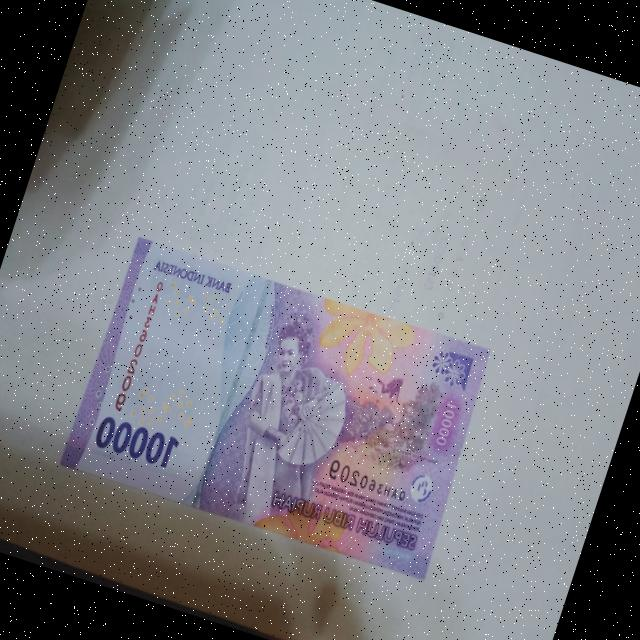10K: (44, 221, 511, 602)
